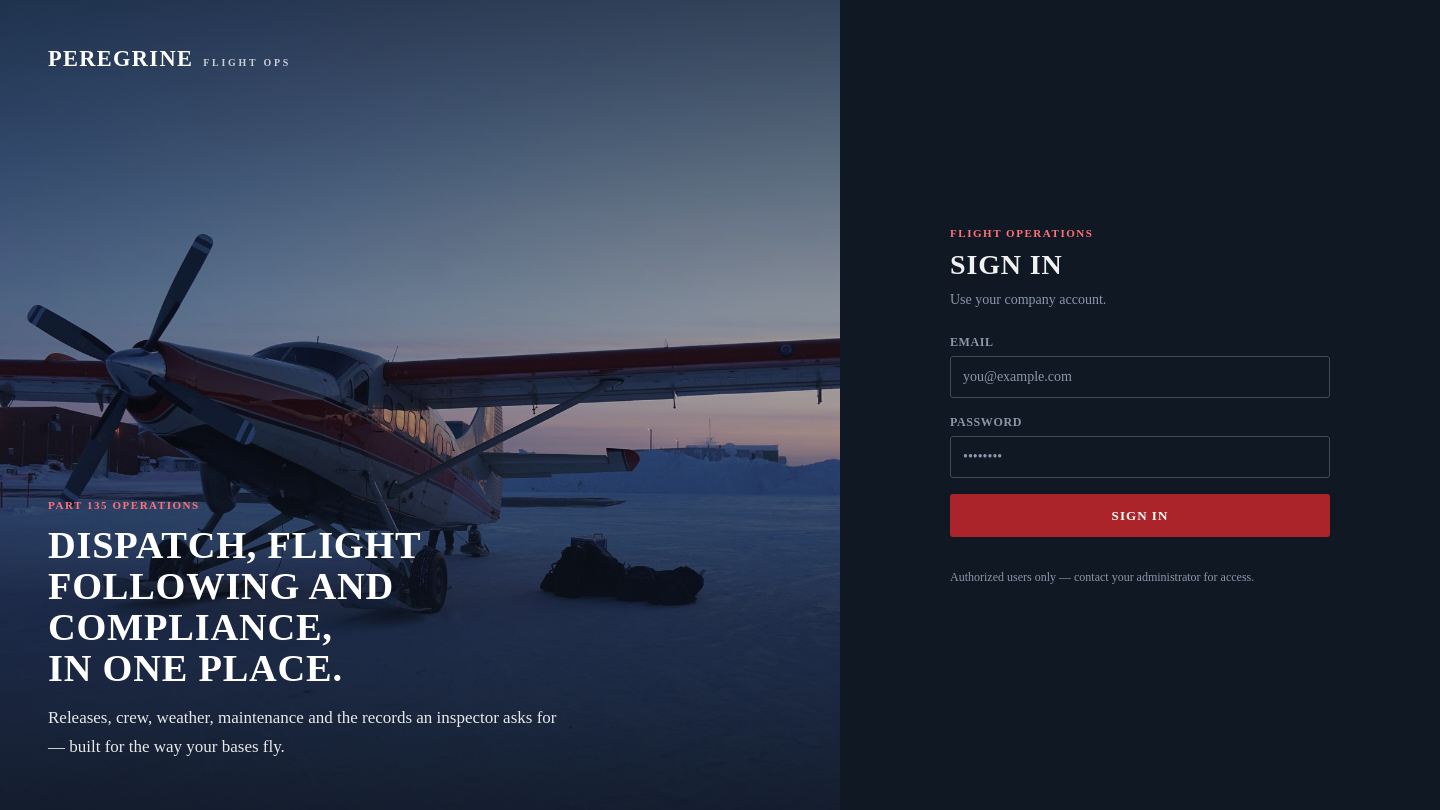
Test: LoginForm › shows an inline error when signIn returns an error
Type "wrong@flightops.local" into the field labelled "Email".
click(1140, 377); type("wrong@flightops.local")  # box x1=950 y1=356 x2=1330 y2=398
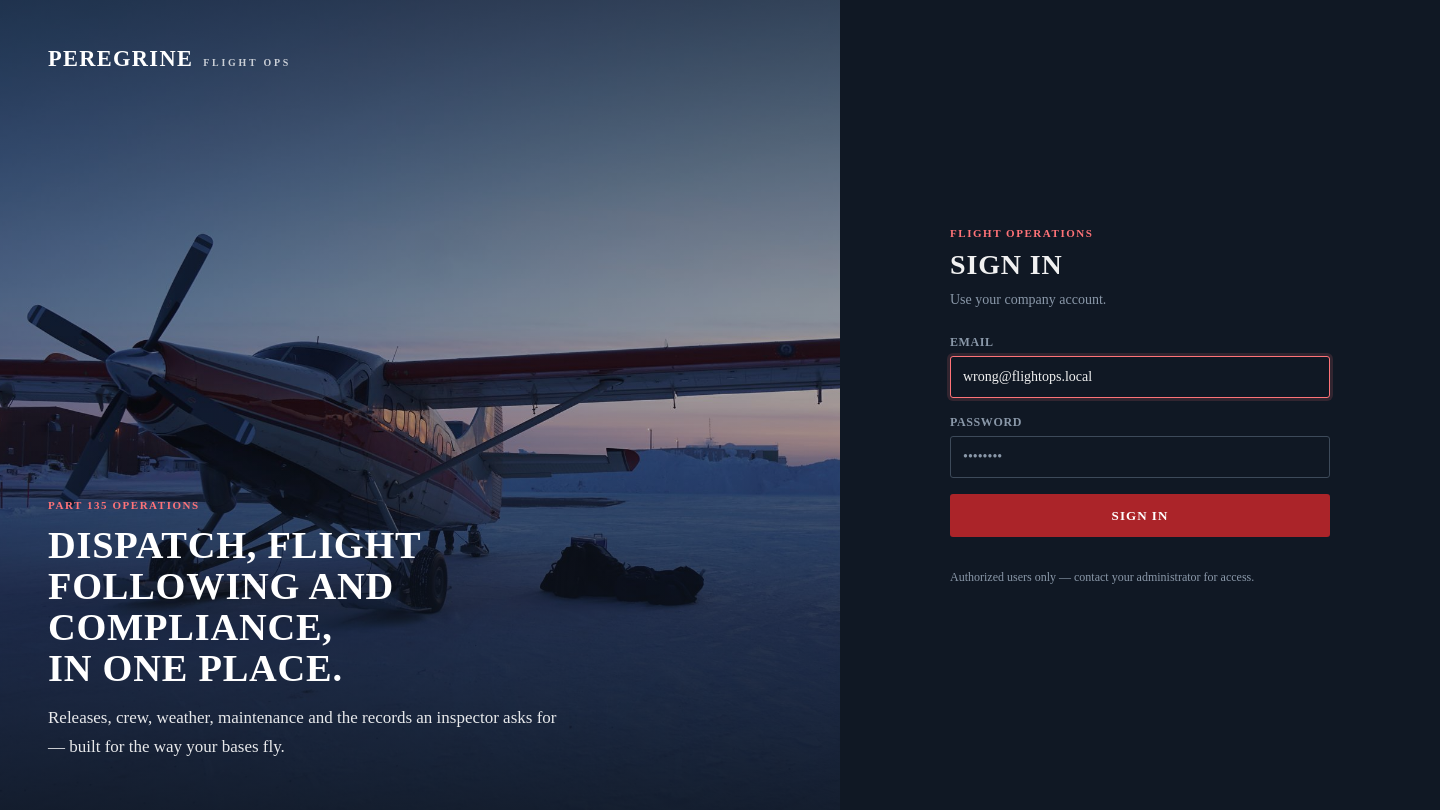
Type "nope" into the password field labelled "Password".
click(1140, 457); type("nope")  # box x1=950 y1=436 x2=1330 y2=478
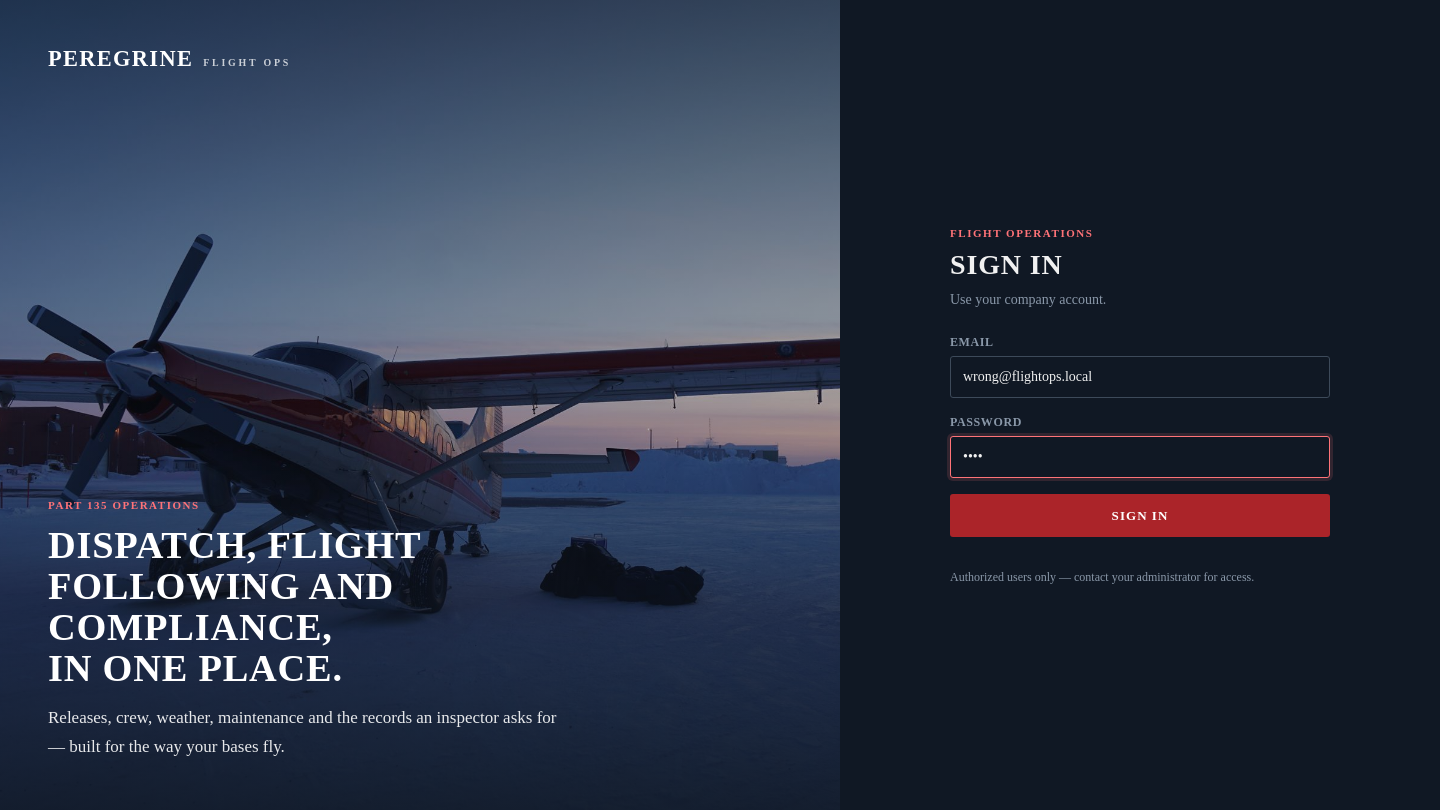
Click the button "Sign In".
click(1140, 515)  # box x1=950 y1=494 x2=1330 y2=537
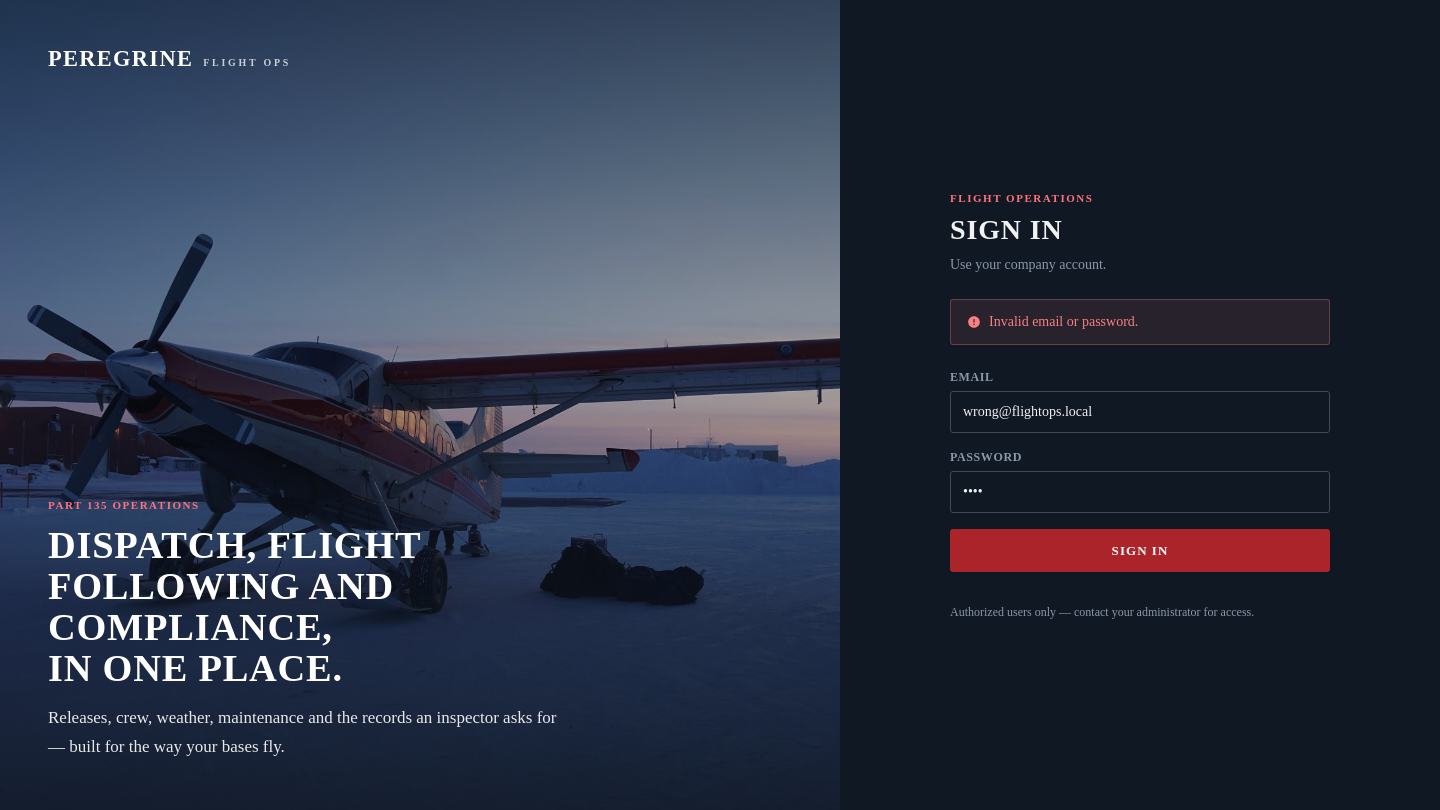
expect the text "Invalid email or password." is shown: met, box x1=989 y1=312 x2=1138 y2=332
